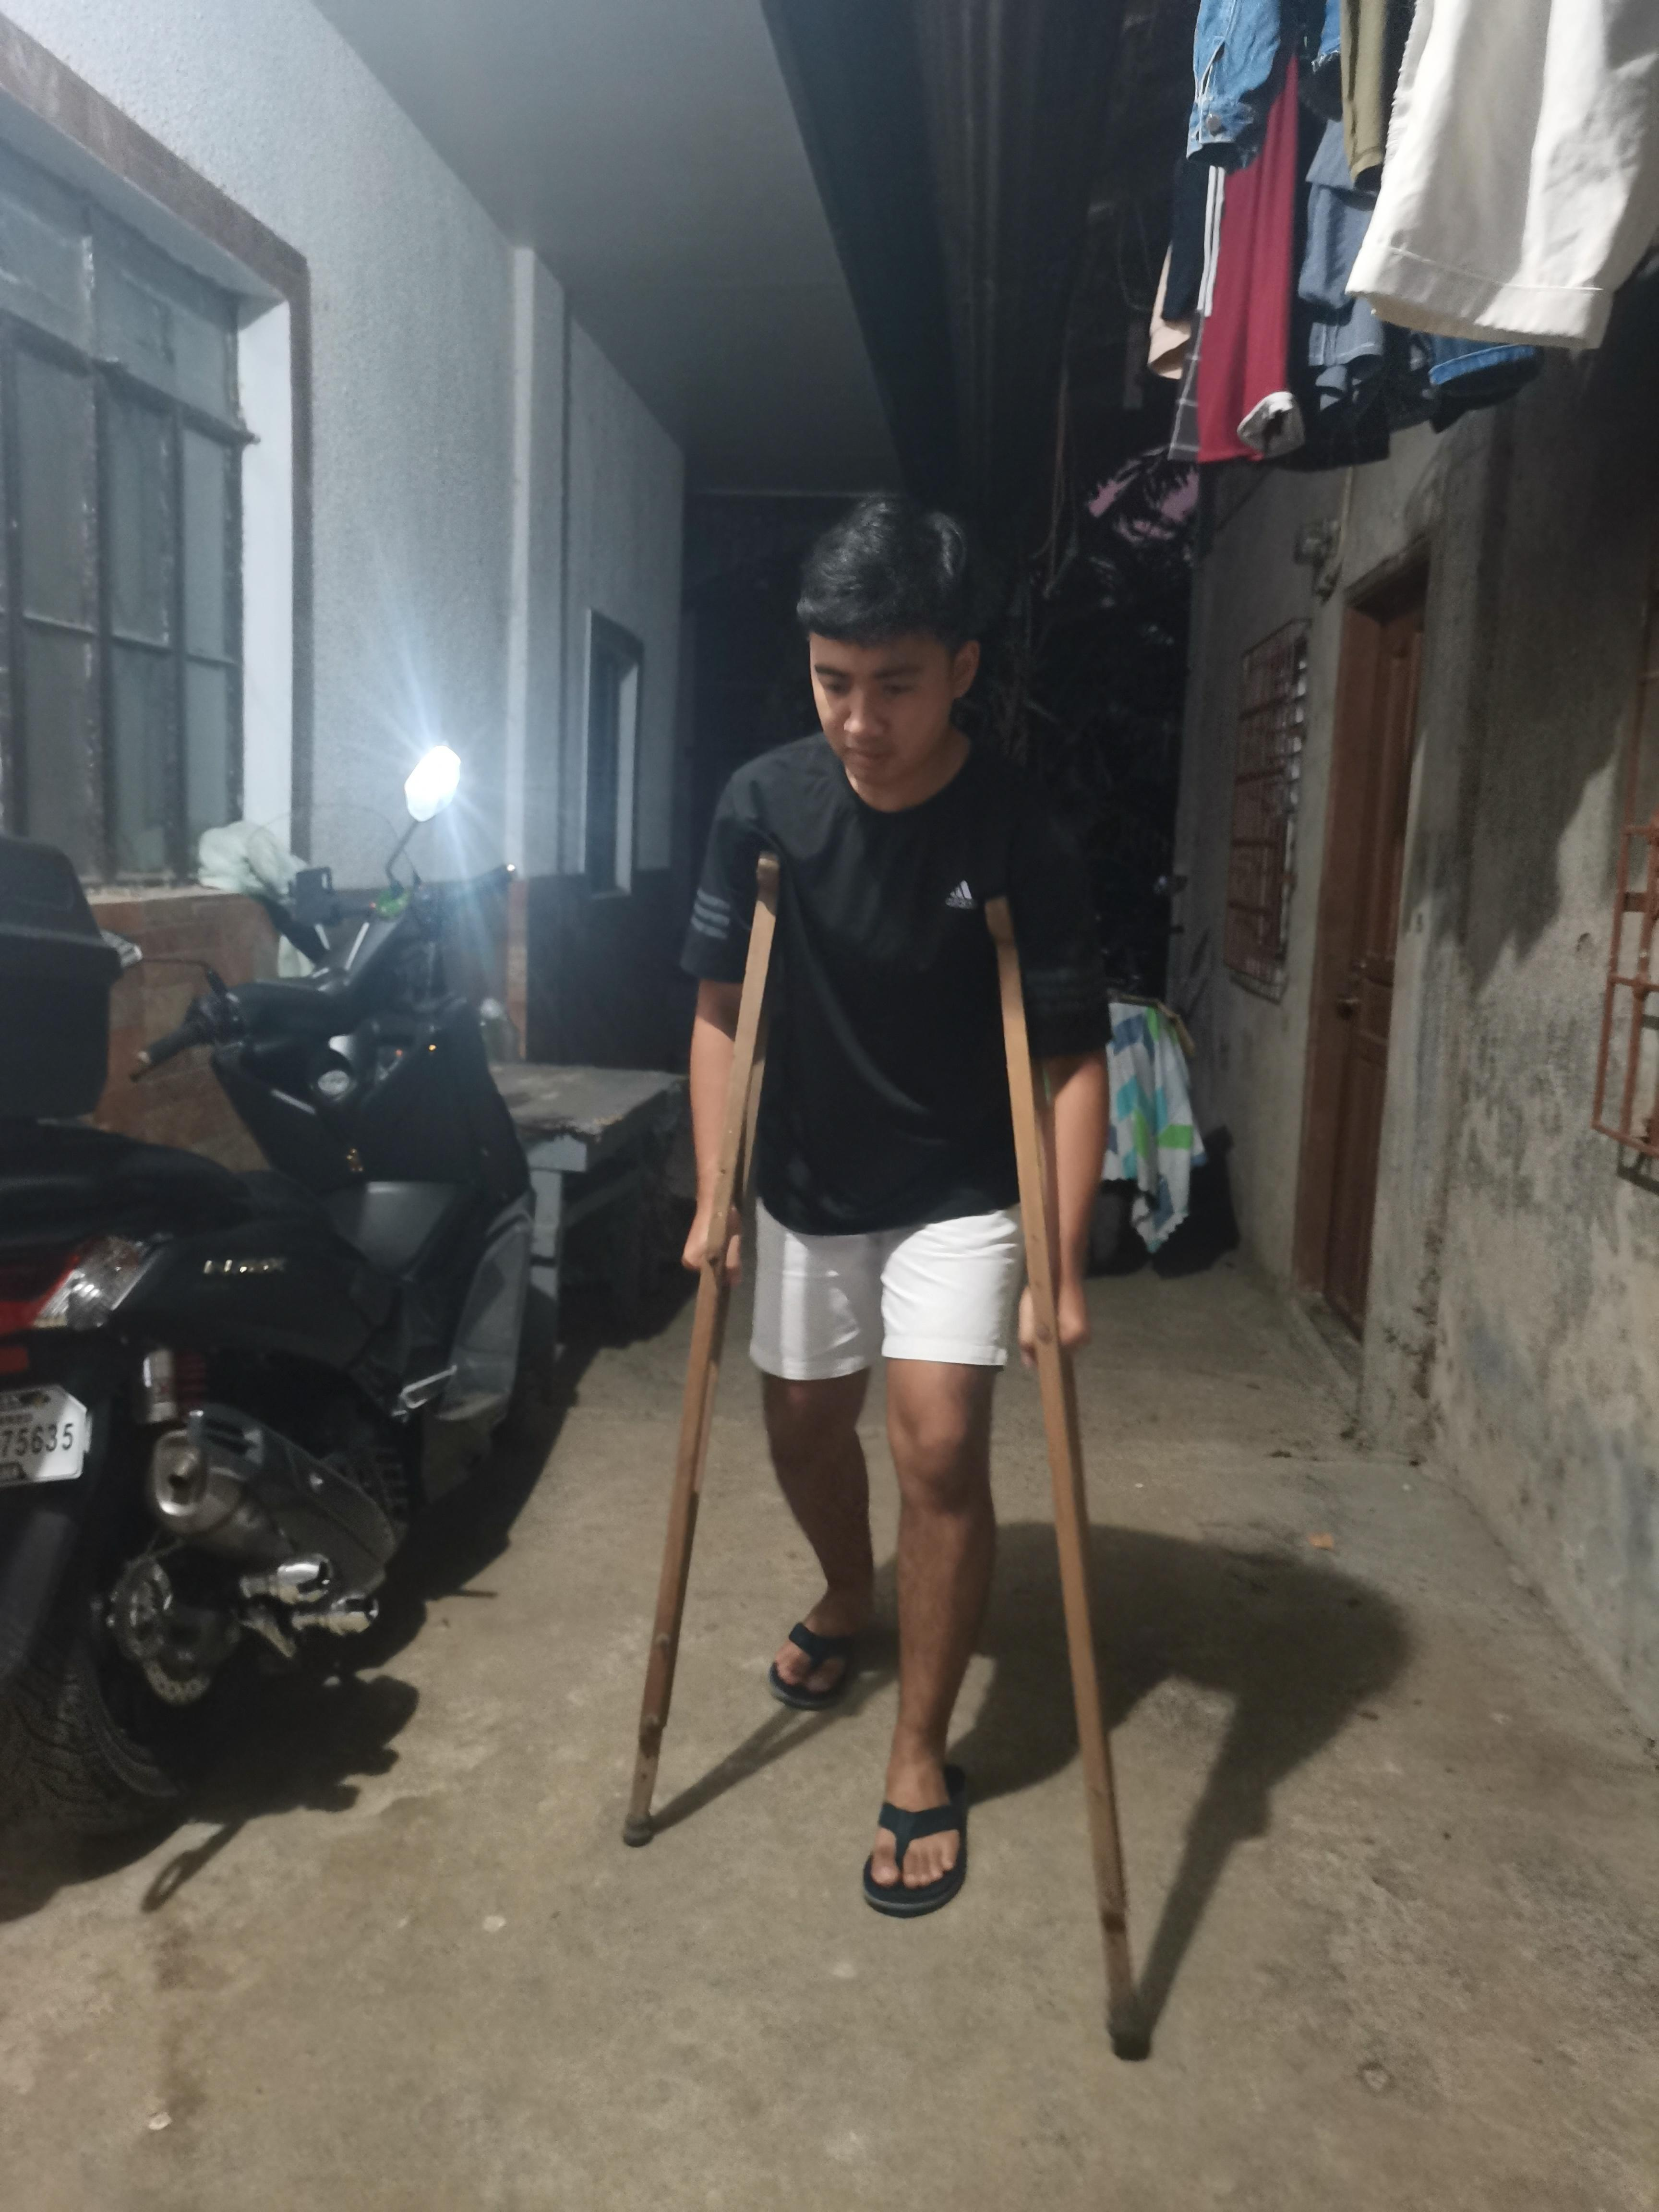crutches: (601, 475, 1178, 2097)
